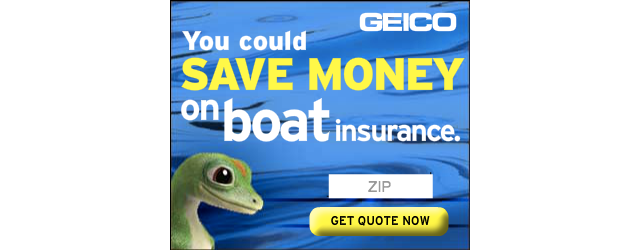geico: (357, 8, 459, 33)
